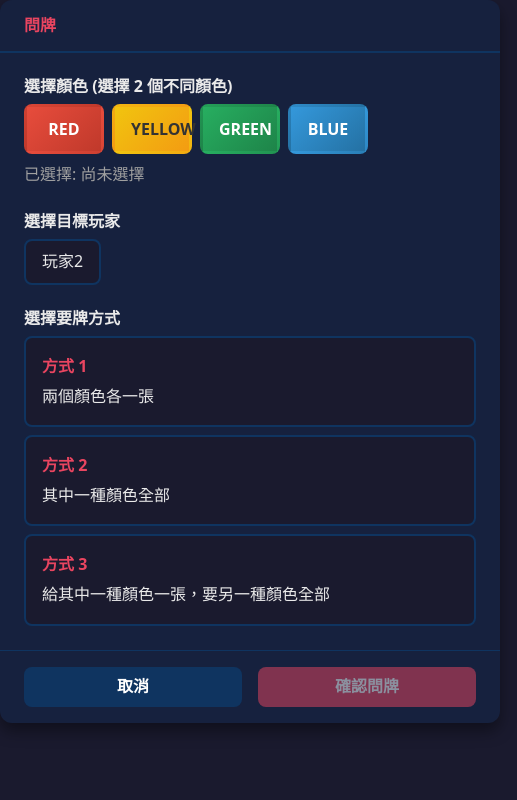
QuestionCard - 工作單 0020 › 表單驗證（使用 gameRules） › 類型3 時玩家沒有牌應顯示錯誤
Click the button "red". click: (64, 129)
box: [24,104,104,154]
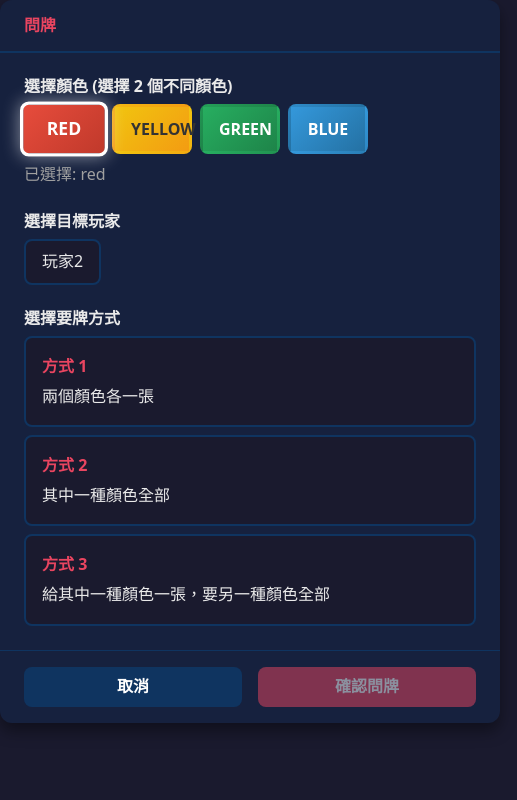
Click the button "blue". click: (328, 129)
box: [288,104,368,154]
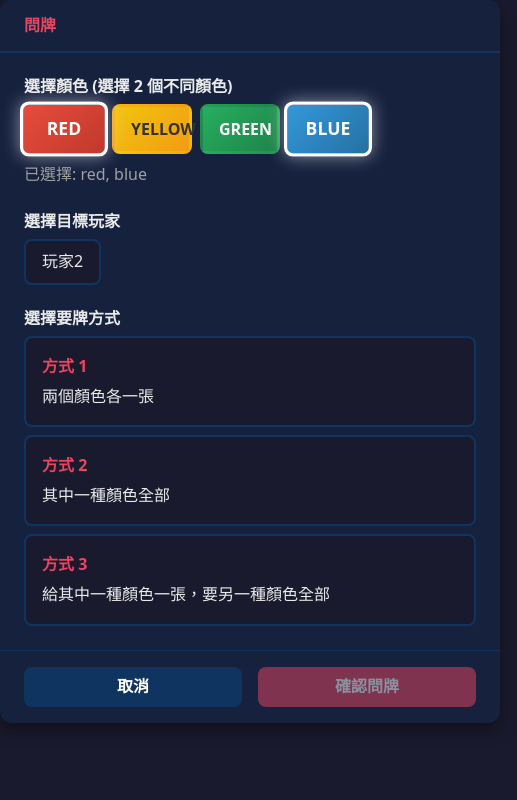
Click the button "玩家2". click: (63, 262)
box: [24,239,101,285]
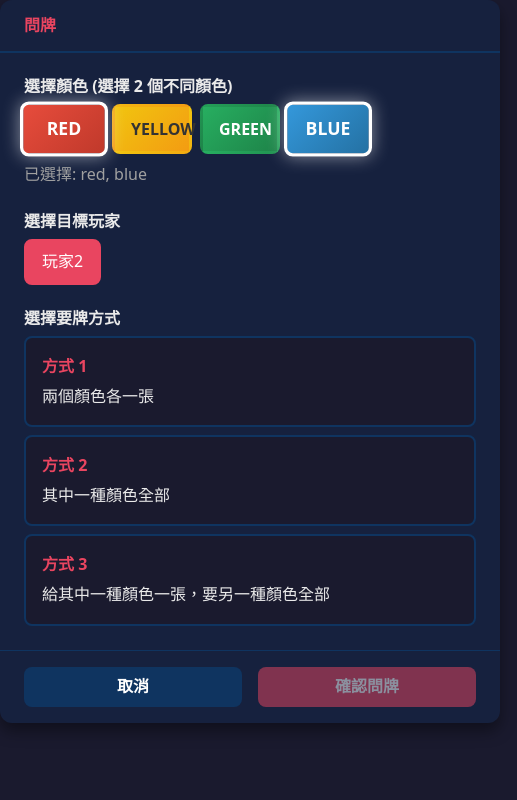
Click the text "給其中一種顏色一張，要另一種顏色全部". click: (186, 595)
box: [42,582,330,608]
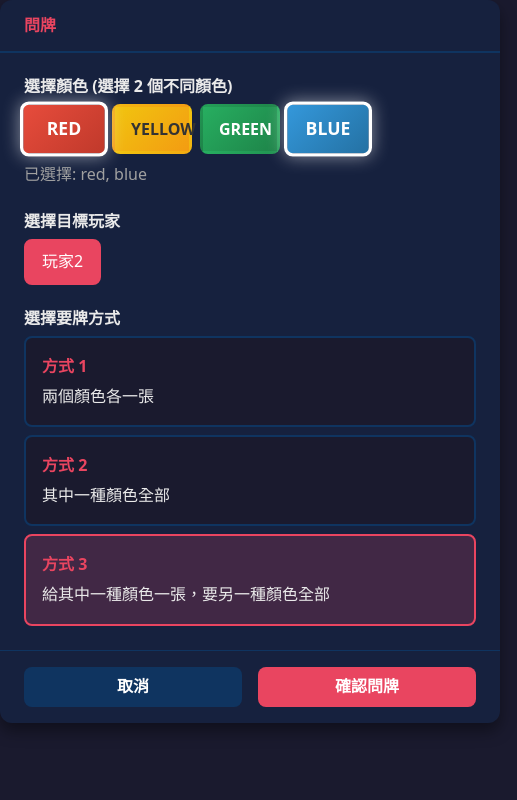
Click the button "確認問牌". click: (367, 686)
box: [258,666,476,706]
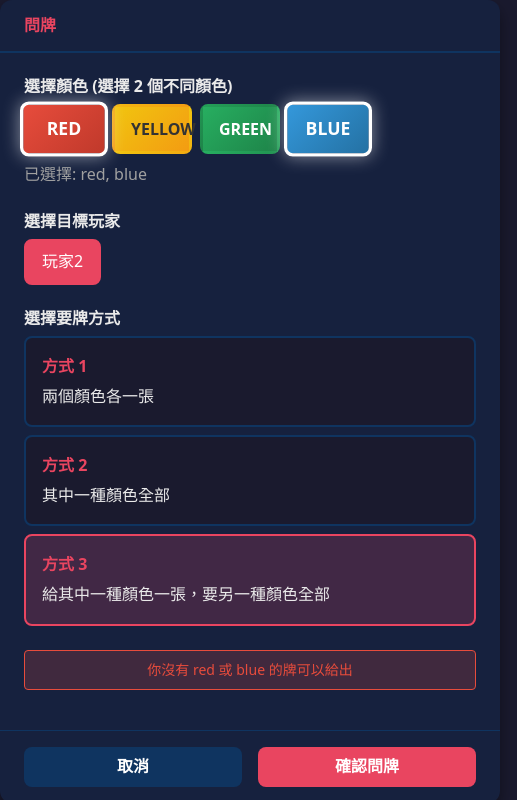
Expected: the message "你沒有 red 或 blue 的牌可以給出" is shown, [24,650,476,690]
